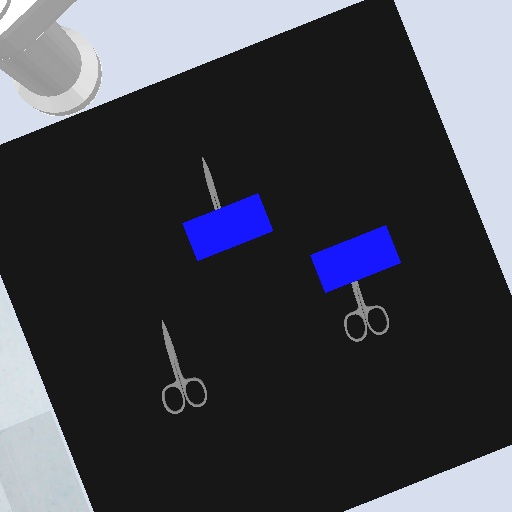tijera: (157, 316, 210, 416), (341, 278, 392, 345), (197, 156, 224, 212)
